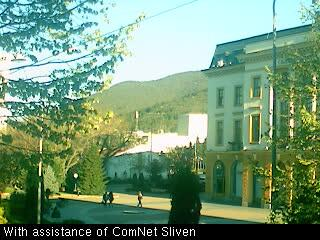person: (137, 192, 143, 208), (102, 192, 108, 208), (108, 192, 114, 208)
